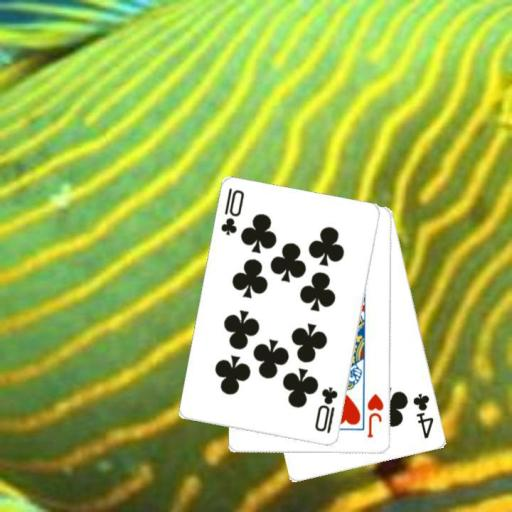10C: (311, 384, 340, 435), (218, 185, 246, 237)
4C: (410, 390, 436, 441)
JH: (365, 391, 385, 440)
